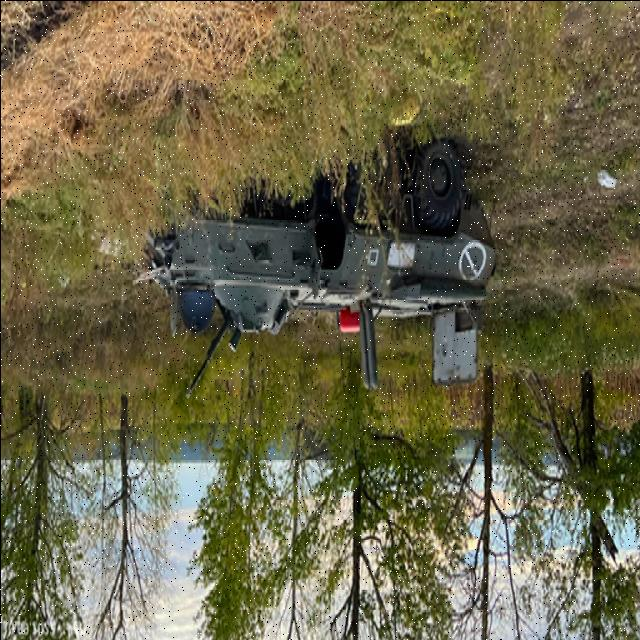APC-IFV: (80, 106, 496, 404)
